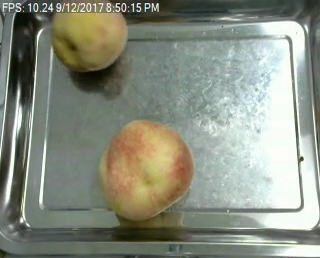Peach: (101, 120, 195, 220), (50, 0, 128, 72)
